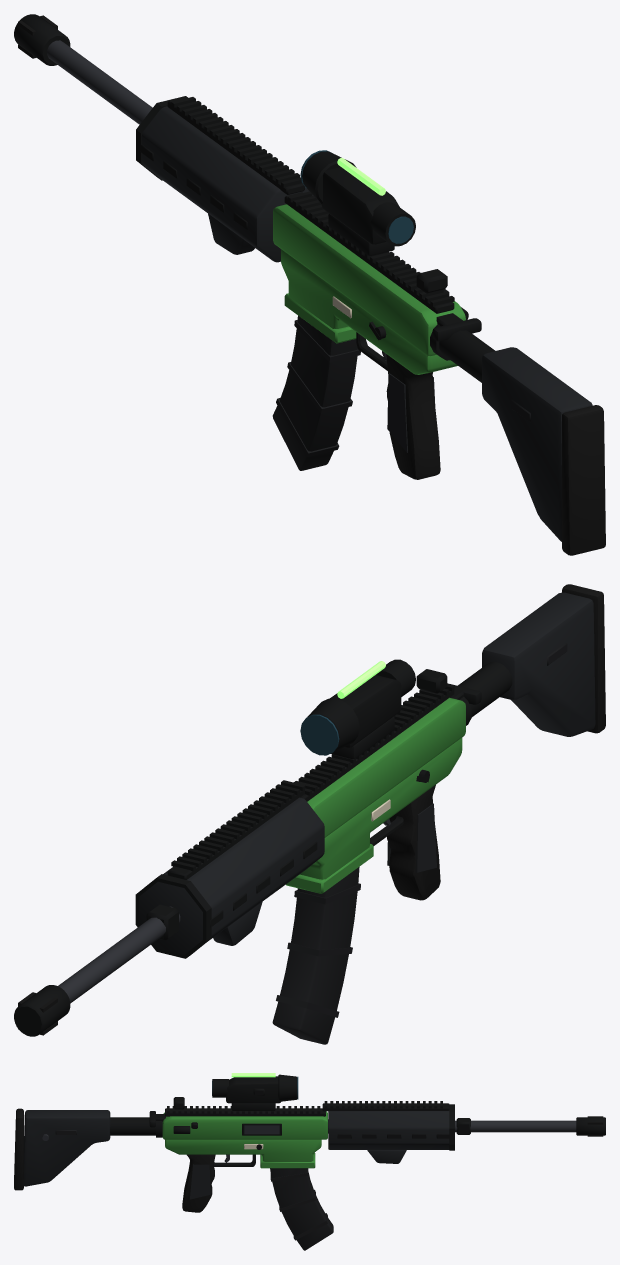
The model's file is gun_29.glb.
The picture shows the model from 3 angles, top to bottom: view 1: azimuth 30°, elevation 25°; view 2: azimuth 150°, elevation 25°; view 3: azimuth 270°, elevation 25°; orthographic projection. The views are drawn at different scales.
Parts seen in each view (by area): view 1: gun_29; view 2: gun_29; view 3: gun_29.
Boxes of the visible parts, bbox=[...] form: gun_29: bbox=[14, 14, 605, 555]; gun_29: bbox=[14, 584, 605, 1044]; gun_29: bbox=[14, 1073, 605, 1250].
Bounding box in the file's own units: 0.0785 × 0.349 × 1.07.
